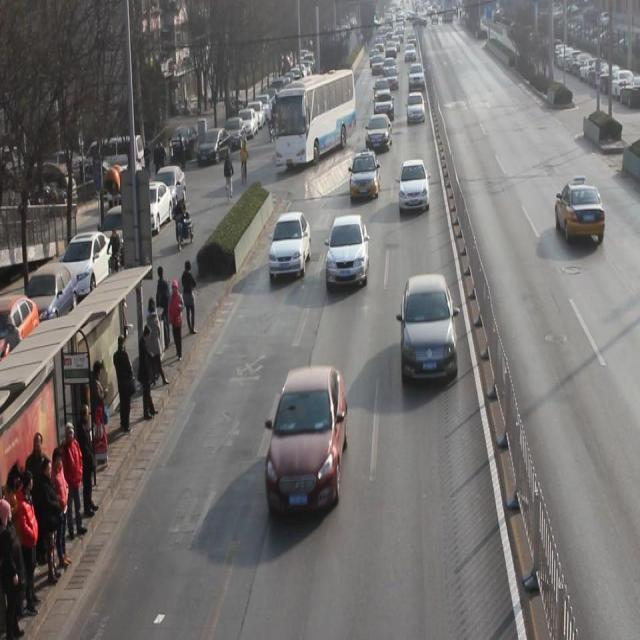car: (264, 363, 350, 519), (400, 275, 459, 385), (326, 215, 370, 288), (555, 182, 605, 243), (270, 212, 312, 282), (399, 159, 430, 214), (349, 151, 381, 203), (366, 114, 393, 152), (406, 91, 426, 125), (373, 92, 395, 121)
van: (275, 68, 358, 165)
